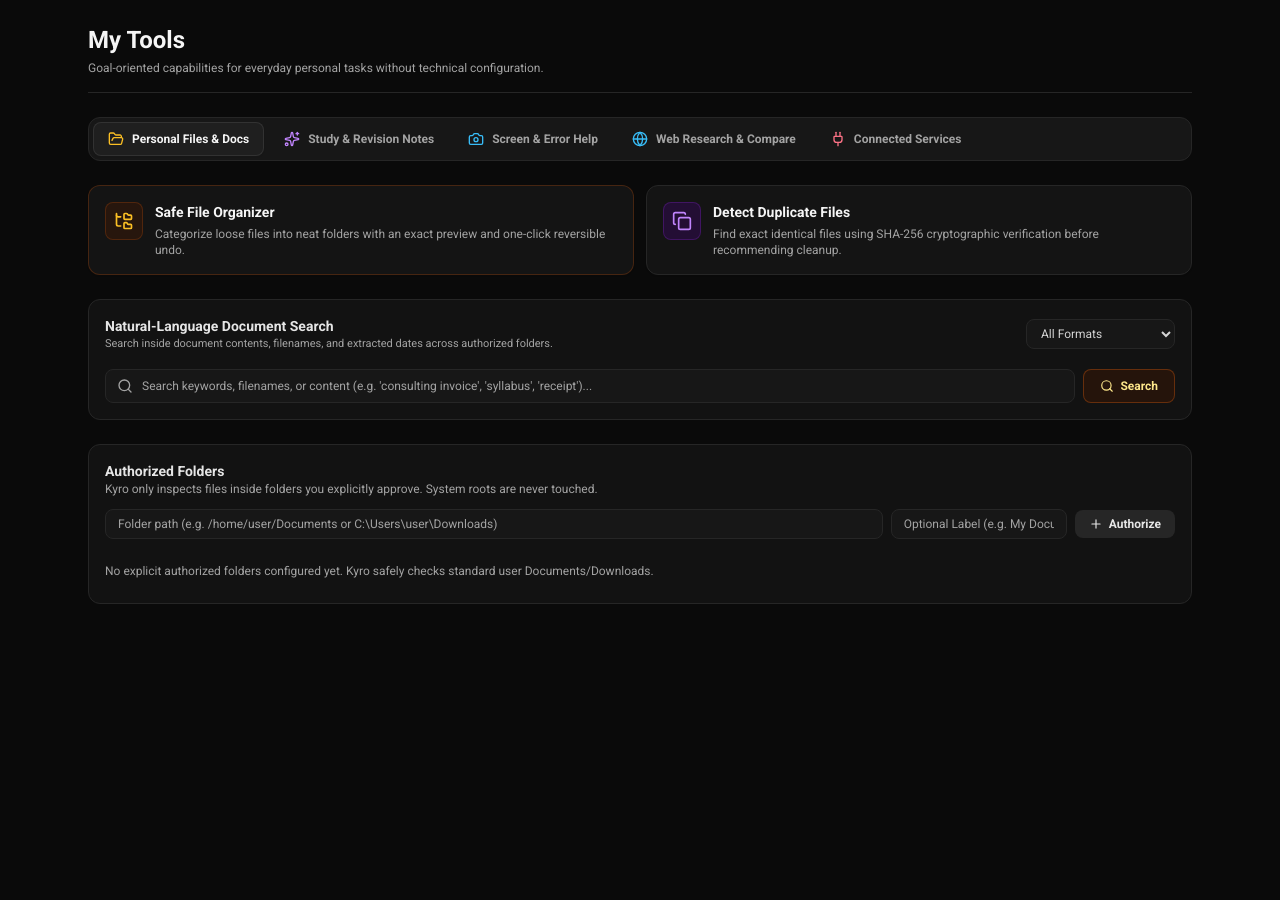
Scenario: MyToolsView Comprehensive Integration Tests › switches to Study tab and generates revision notes
Step 1. Click the button "Study & Revision Notes" → (359, 139), box top-left (270, 123), bottom-right (448, 155)
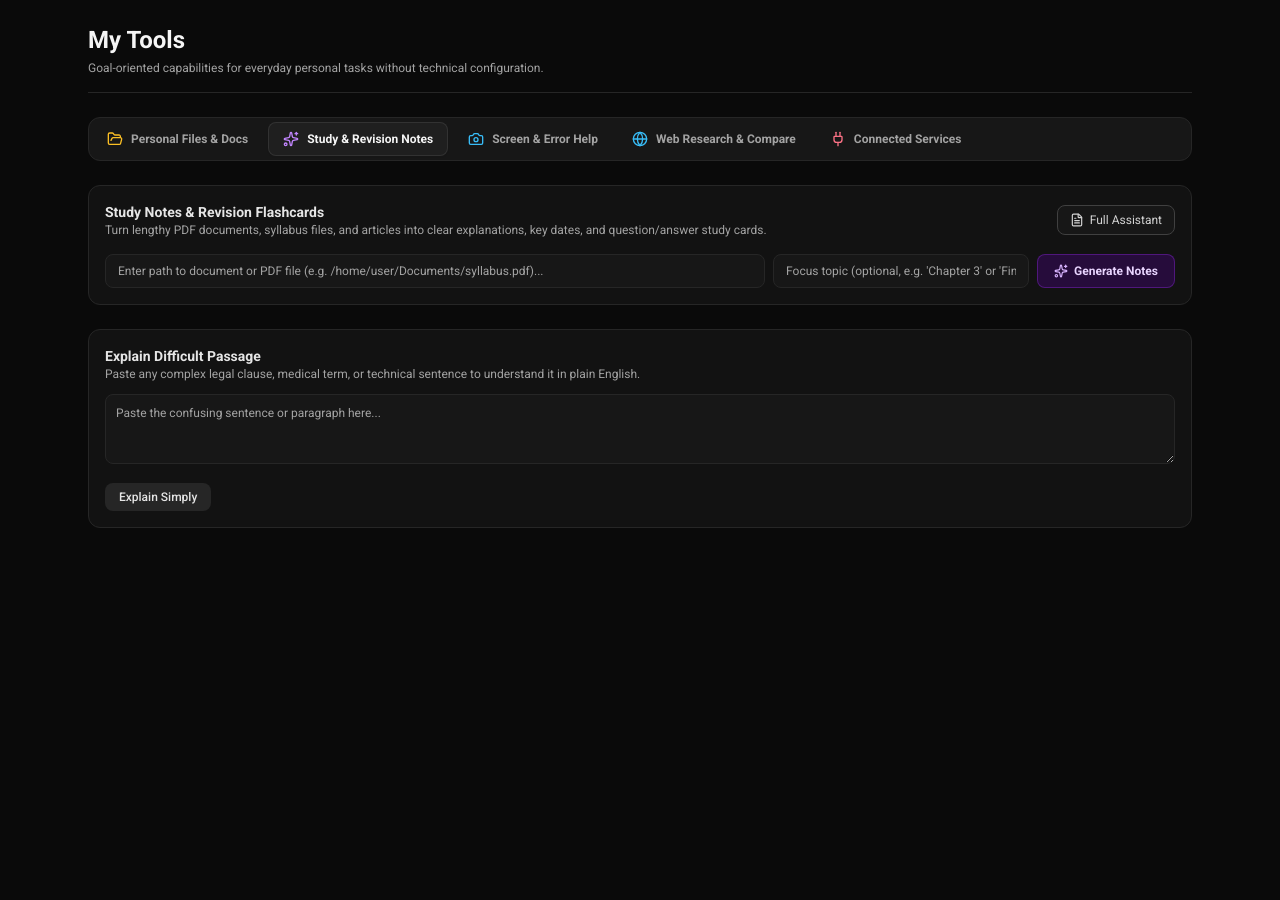
Step 2. Replace the text in the field with placeholder "Enter path to document or PDF file" with "/data/docs/consensus.pdf" → (435, 271), box top-left (105, 254), bottom-right (765, 288)
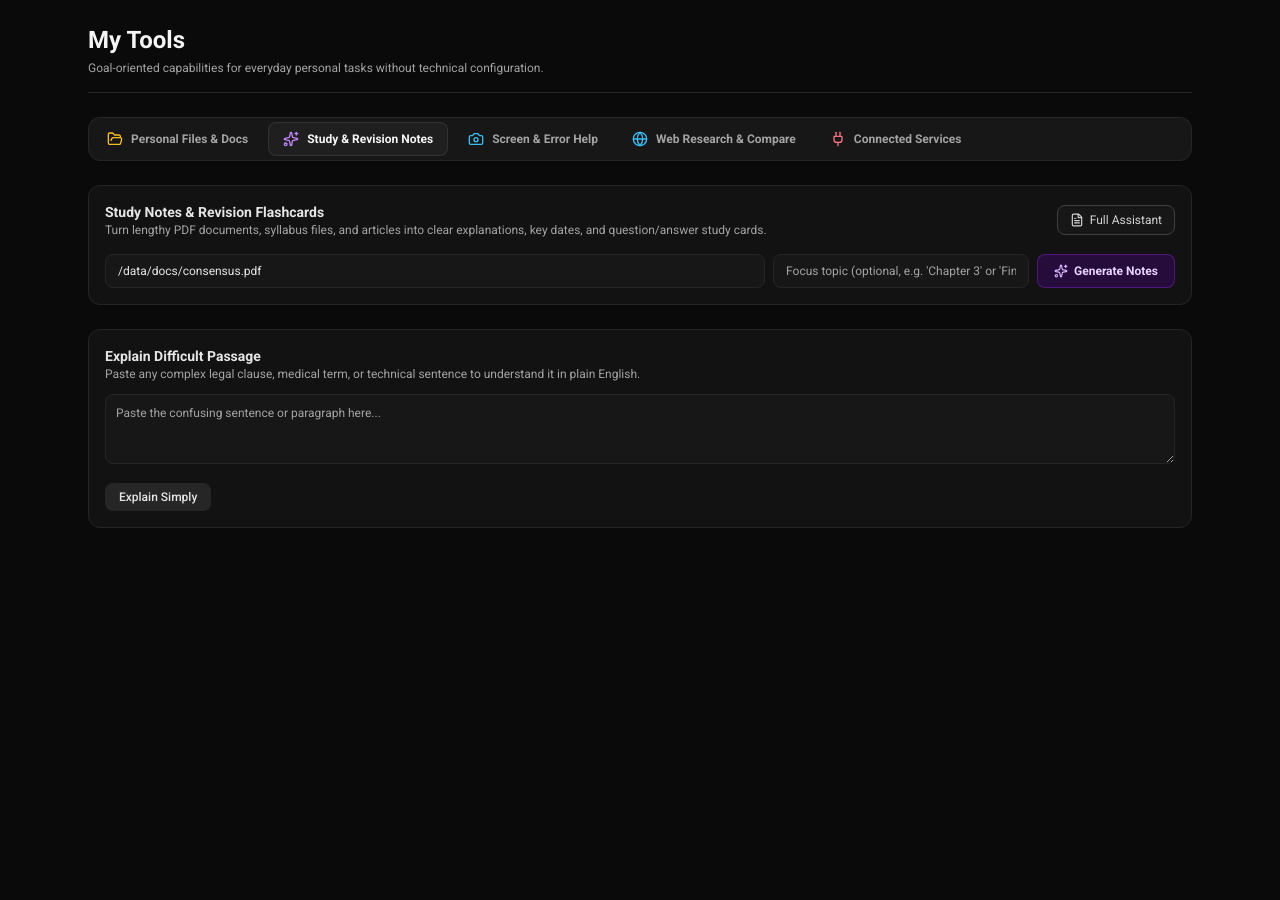
Step 3. Click the button "Generate Notes" → (1106, 271), box top-left (1037, 254), bottom-right (1175, 288)
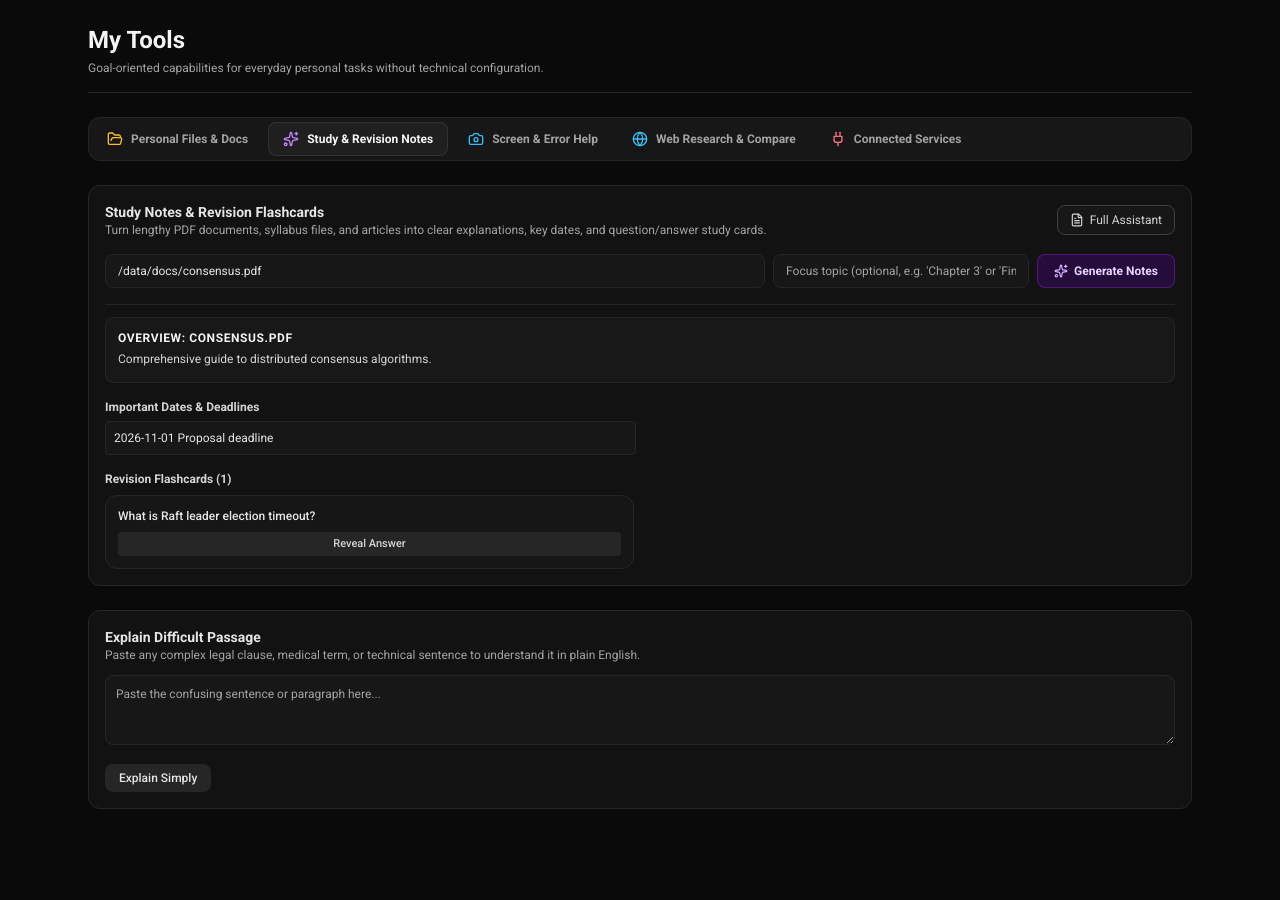
Check: the text "What is Raft leader election timeout?" is shown, box top-left (118, 508), bottom-right (316, 522)
